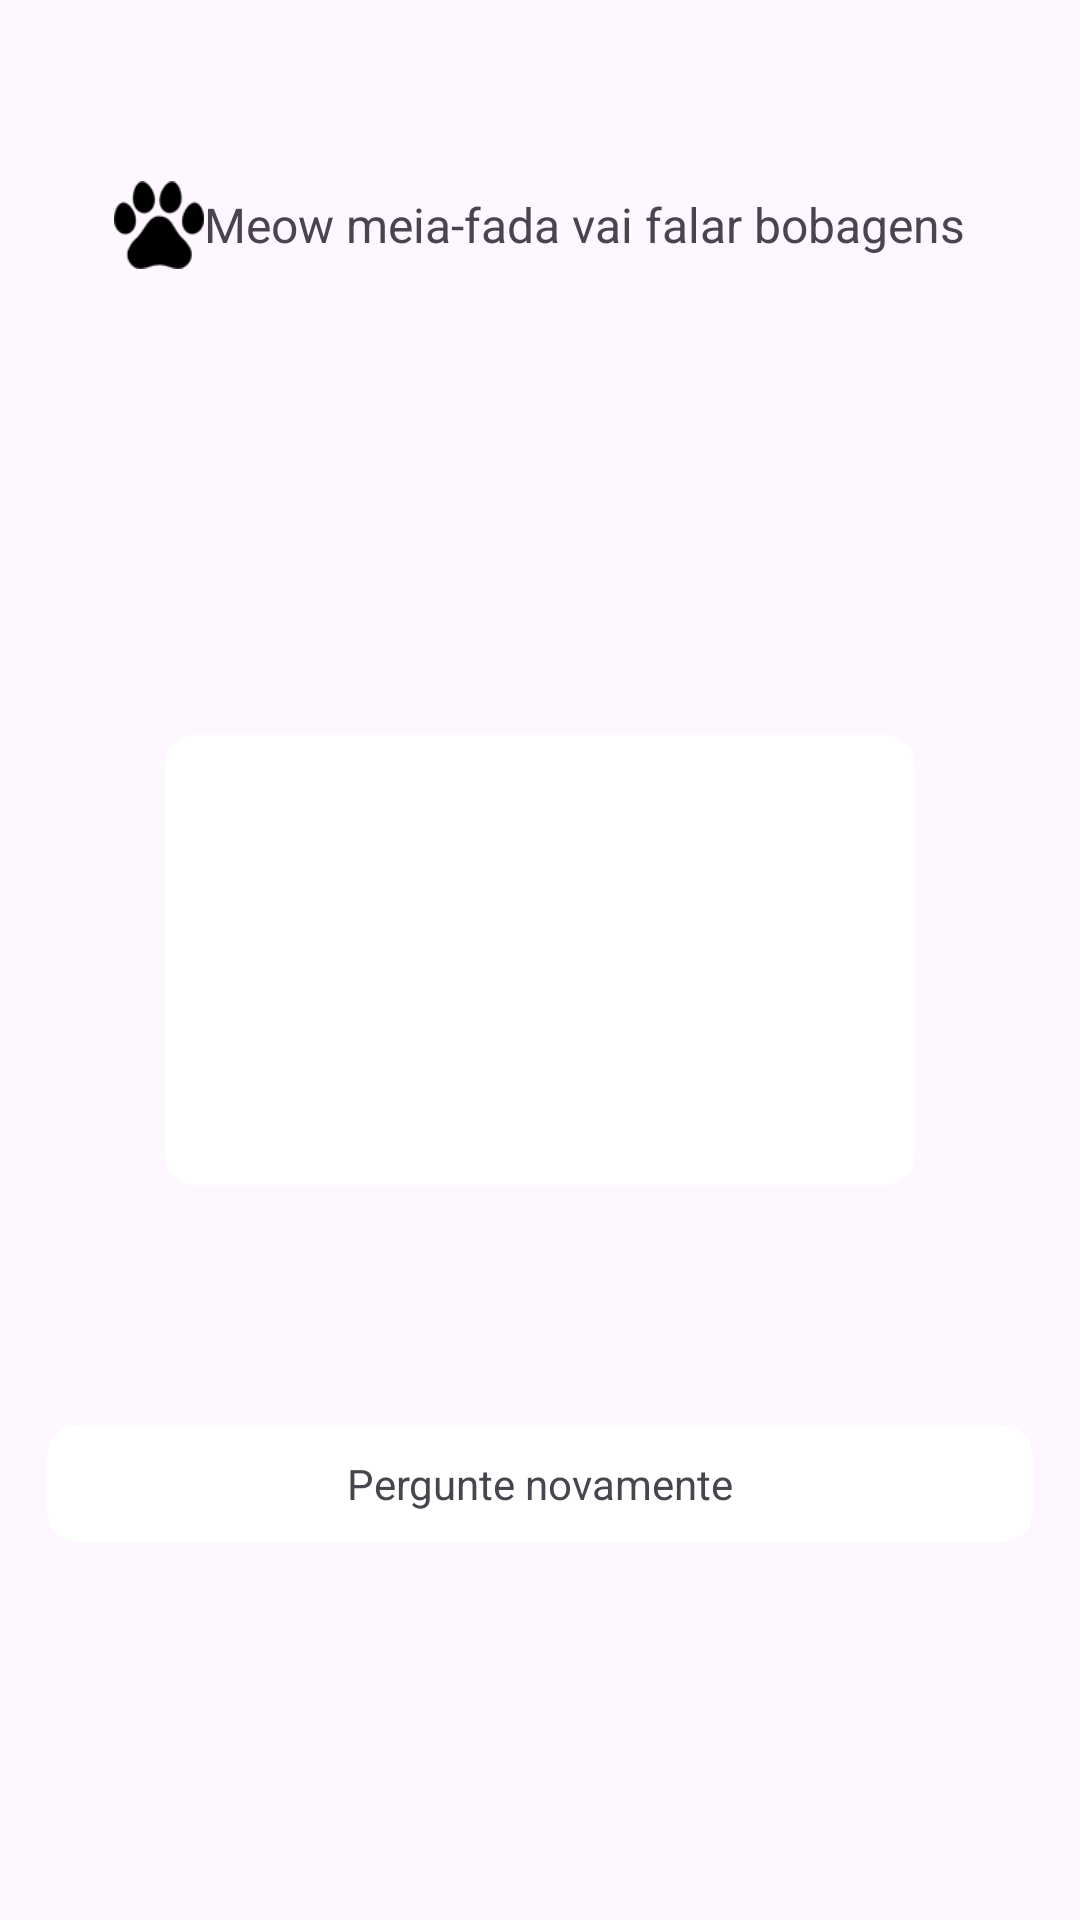

Locate icon controls on the screen. Image size 1080 x 1920, boxes as (x1, y1, x2, y2).
gouzhua: (114, 181, 204, 269)
